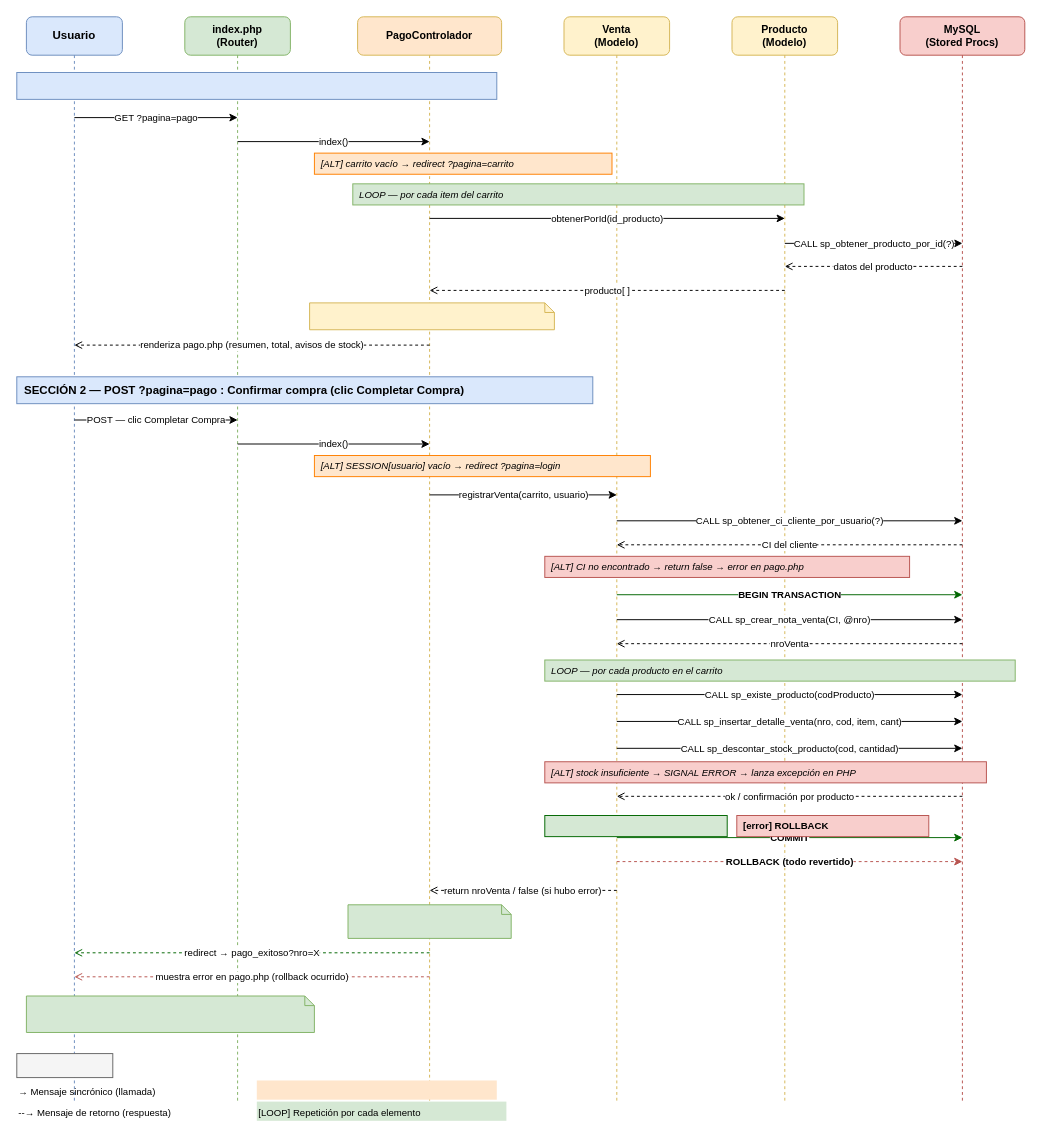
Some shapes in this 1042 by 1138 pixel diagram are drawn without their labels. Each missing label, with the centre of its shape:
[ALT] Flujo alternativo / condición: point (376, 1089)
[éxito] COMMIT: point (635, 826)
LEYENDA: point (64, 1065)
Renderiza pago_exitoso.php Muestra número de venta y mensaje de éxito: point (169, 1013)
SECCIÓN 1 — GET ?pagina=pago : Ver resumen antes de pagar: point (256, 85)
SESSION['carrito'] = [ ] (carrito vaciado): point (429, 921)
Verifica: stock disponible ≥ cantidad pedida: point (431, 316)
